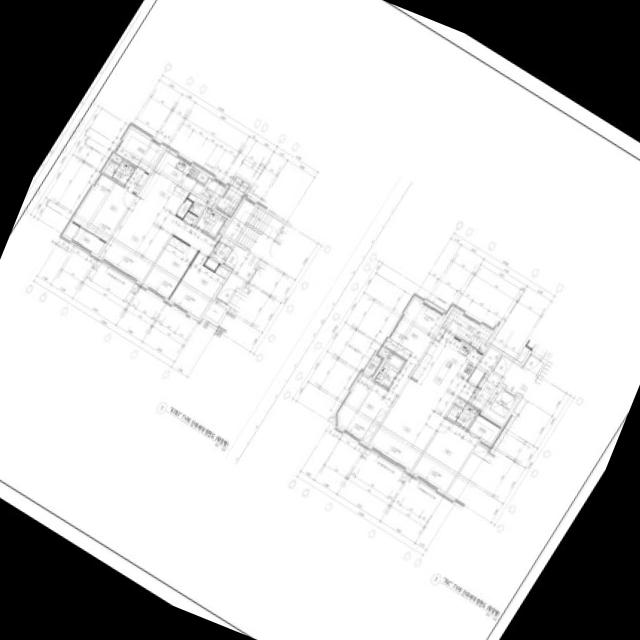background: (0, 0, 640, 640)
space_balconi: (441, 308, 491, 352), (185, 176, 225, 216), (71, 227, 105, 254), (363, 354, 381, 374)
space_bedroom: (412, 418, 478, 491), (385, 299, 443, 375), (72, 173, 135, 241), (168, 251, 228, 318), (337, 374, 395, 443), (142, 235, 197, 298)
space_dressroom: (115, 128, 163, 173), (468, 415, 499, 443), (124, 167, 148, 193)
space_elevator: (482, 385, 519, 424), (241, 262, 265, 294)
space_elevator_hall: (214, 244, 269, 304), (492, 354, 543, 395)
space_front: (467, 372, 500, 410), (208, 235, 233, 264), (203, 257, 218, 270)
space_kitchen: (410, 332, 481, 396), (139, 150, 198, 214)
space_living_room: (99, 192, 220, 281), (368, 372, 475, 470), (467, 367, 483, 385)
space_other: (203, 300, 226, 323), (478, 347, 499, 371), (176, 198, 191, 217), (64, 221, 79, 238), (182, 210, 196, 224), (218, 218, 229, 233), (195, 171, 207, 183), (434, 327, 444, 339), (454, 397, 465, 407), (111, 153, 121, 163), (380, 347, 389, 355)
space_staircase: (223, 199, 283, 261)
space_toilet: (373, 351, 404, 388), (194, 205, 226, 238), (102, 159, 135, 185), (454, 403, 478, 428), (446, 404, 461, 421)
